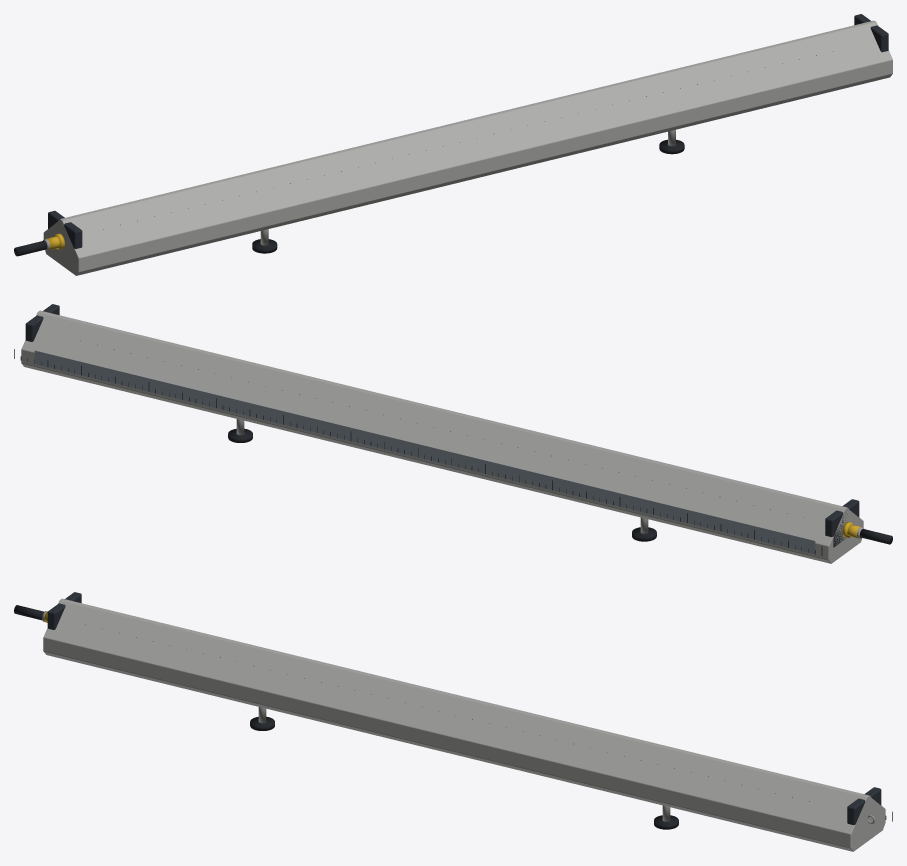
Rendered from air_track.glb.
3 views of the same model, one above another, from view 1: azimuth 30°, elevation 25°; view 2: azimuth 150°, elevation 25°; view 3: azimuth 330°, elevation 25° (orthographic).
Parts seen in each view (by area): view 1: rail_body; view 2: rail_body, scale_strip, scale_ticks, bumper_l; view 3: rail_body.
Part boxes in pixels (left/top/right/bottom): rail_body: left=43, top=20, right=892, bottom=275; rail_body: left=21, top=310, right=863, bottom=563; scale_strip: left=34, top=350, right=815, bottom=554; scale_ticks: left=14, top=349, right=822, bottom=555; bumper_l: left=825, top=499, right=859, bottom=547; rail_body: left=43, top=598, right=885, bottom=851.
Size of the model in its own units: 1.28 by 0.11 by 0.0904.
